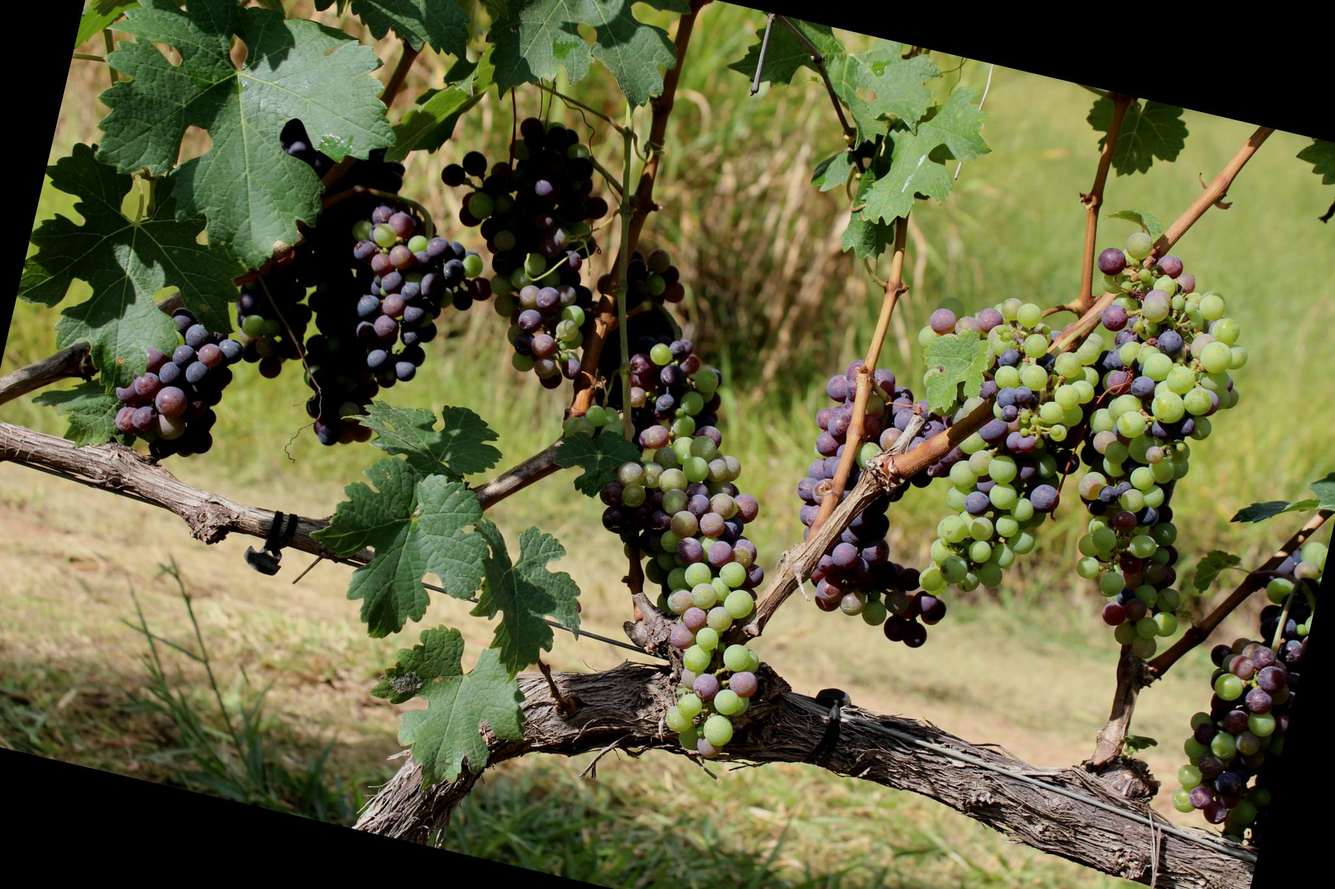Grape Unripe: (549, 326, 826, 767), (1011, 223, 1262, 669), (865, 282, 1117, 624), (397, 92, 657, 405), (1159, 524, 1328, 861), (594, 231, 707, 402)
